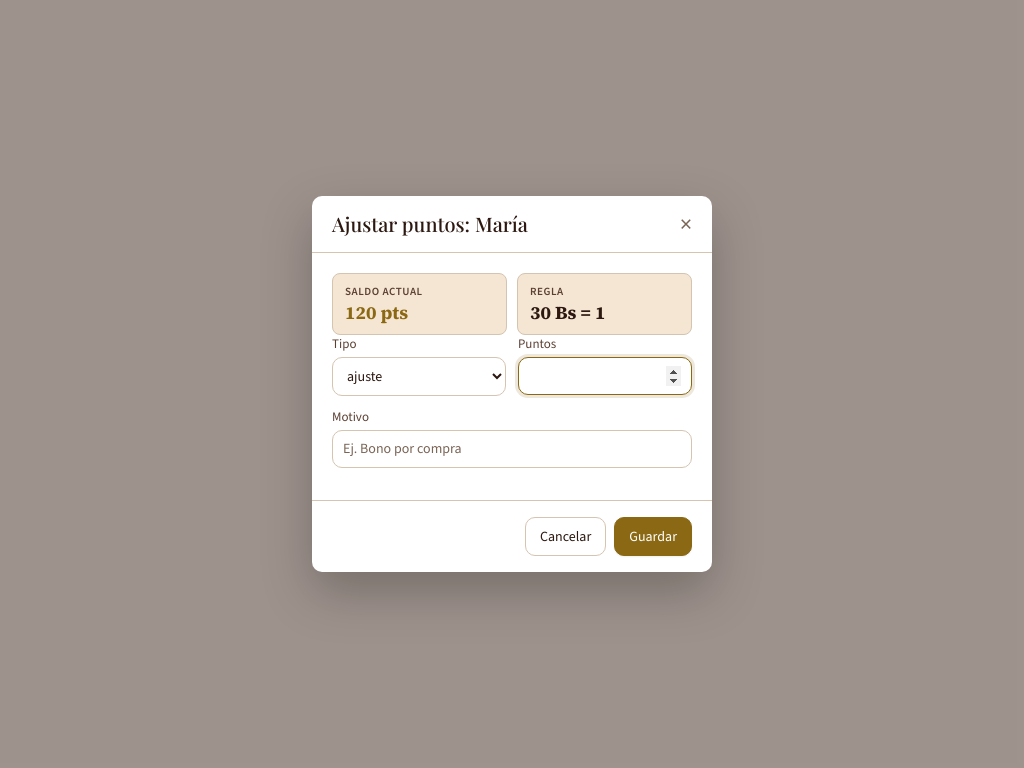
Test: AjustePuntosModal › motivo corto bloquea submit
Type "10" into the number field labelled "Puntos" at (605, 376), box [518, 357, 692, 394]
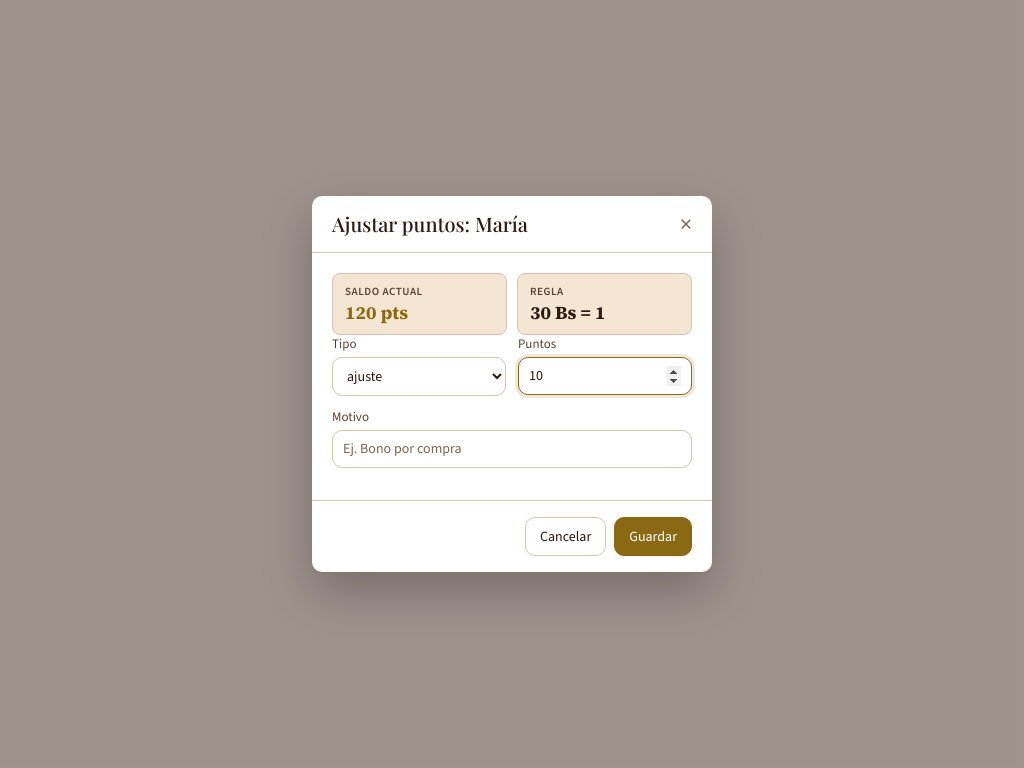
Type "ab" into the field labelled "Motivo" at (512, 449), box [332, 430, 692, 468]
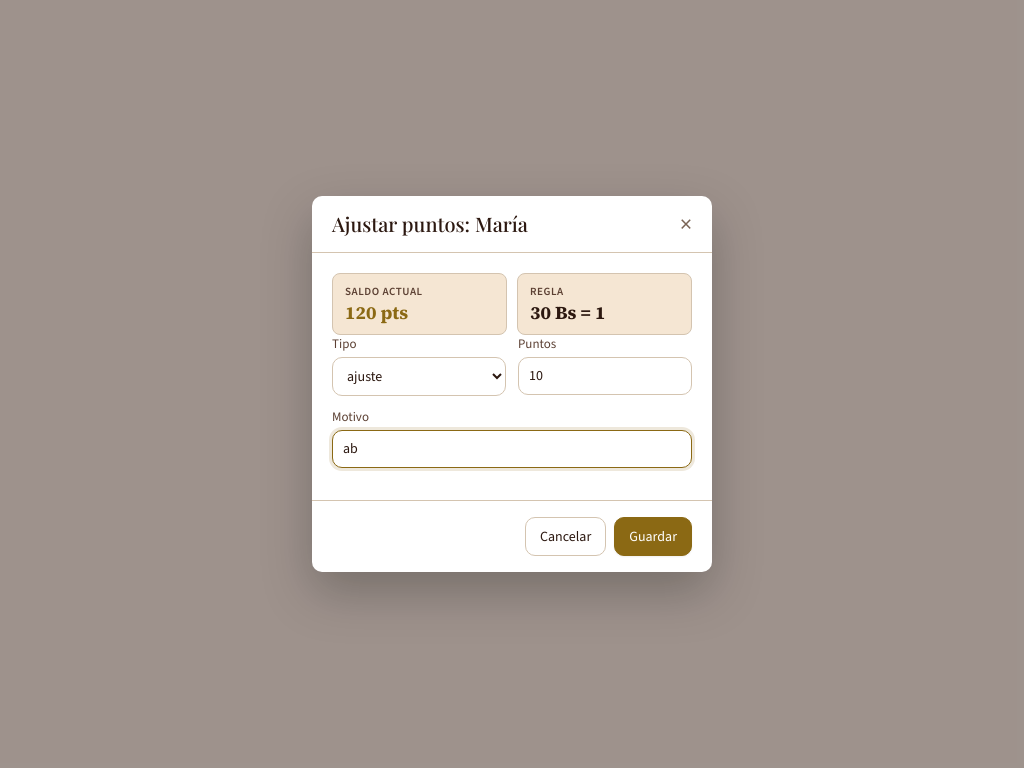
Click the button "Guardar" at (653, 536), box [614, 517, 692, 556]
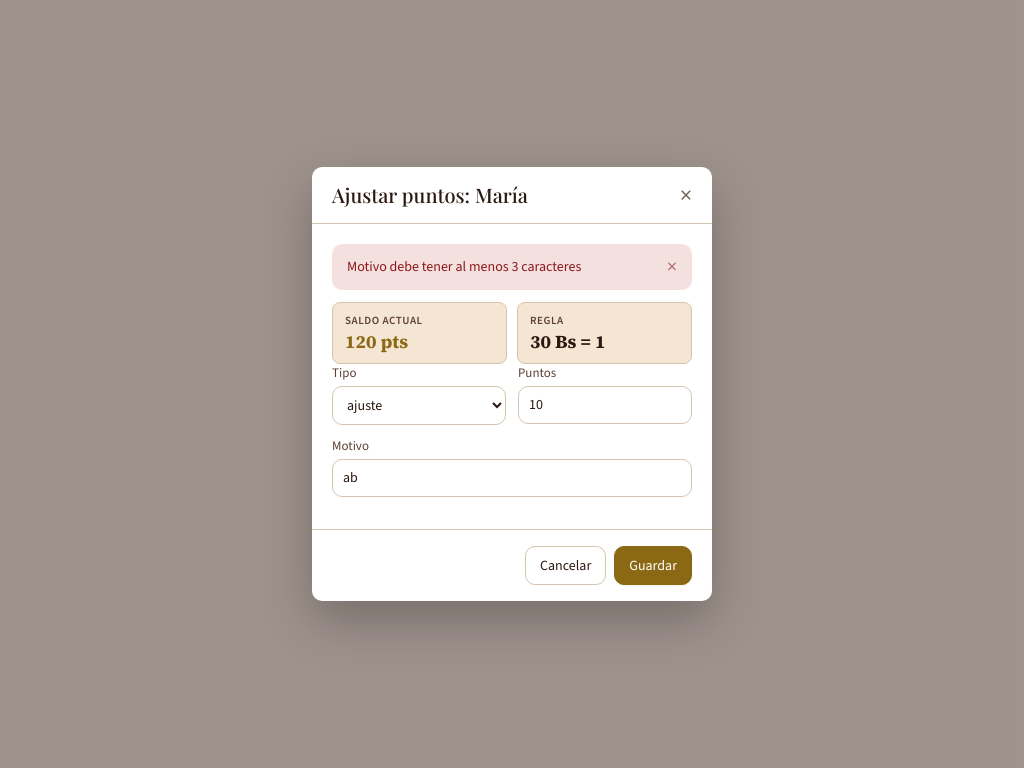
Check: the message "Motivo debe tener al menos 3 caracteres ×" is shown, box [332, 244, 692, 290]
